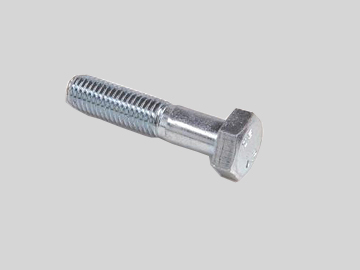screw: (66, 74, 262, 182)
